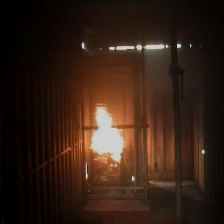fire: (90, 101, 129, 167)
